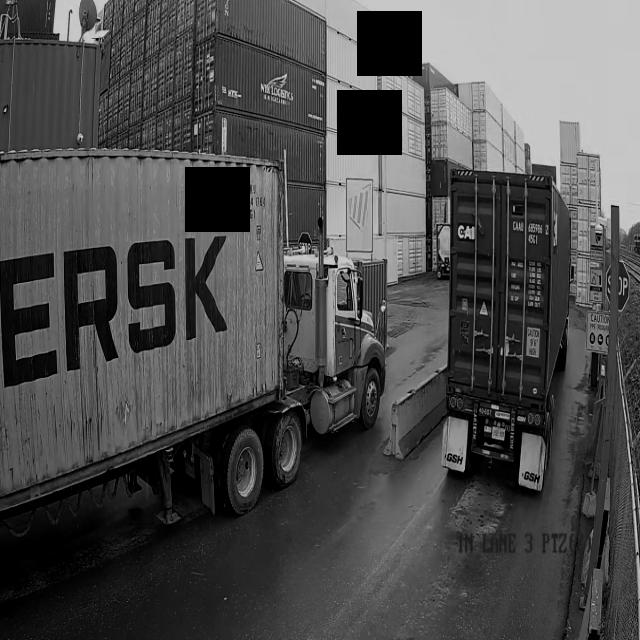container_company_logo: (0, 221, 234, 394), (457, 224, 477, 244)
container_number: (511, 215, 549, 258)
container_side_no: (241, 178, 270, 225)
license_plate: (489, 424, 509, 443)
truck_with_container: (0, 148, 387, 523), (410, 170, 570, 492)
